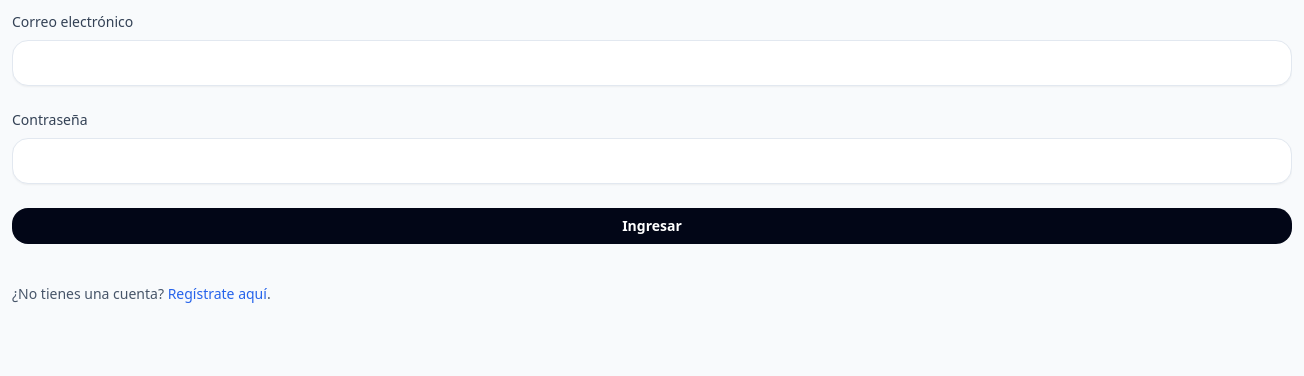
it: LoginForm › muestra los errores de validación al enviar un formulario vacío
The image size is (1304, 376).
What coordinates should you click on to do the following:
click the button "Ingresar"
I would click on:
 (652, 226)
Its box is 12,208 -> 1292,244.
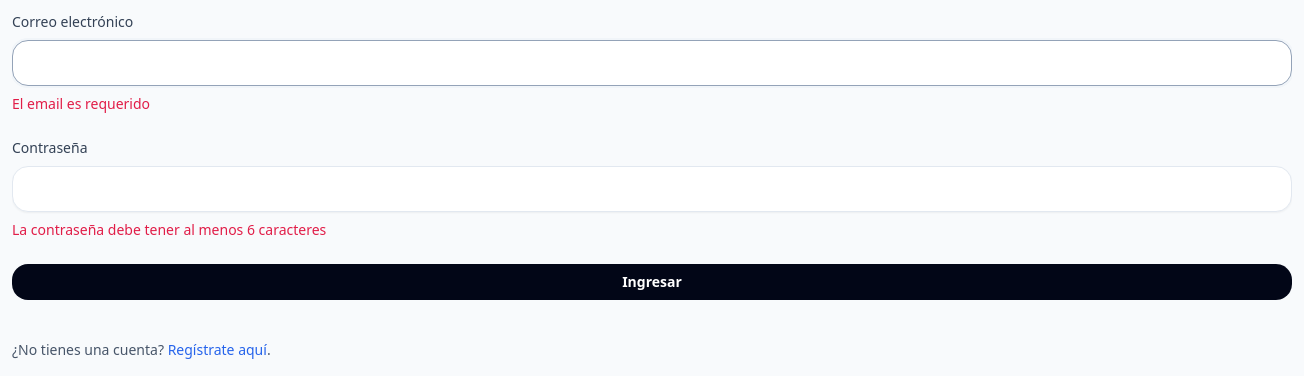
Result: the text "El email es requerido" is shown at 12,94 -> 150,113
Result: the text "La contraseña debe tener al menos 6 caracteres" is shown at 12,220 -> 326,239
